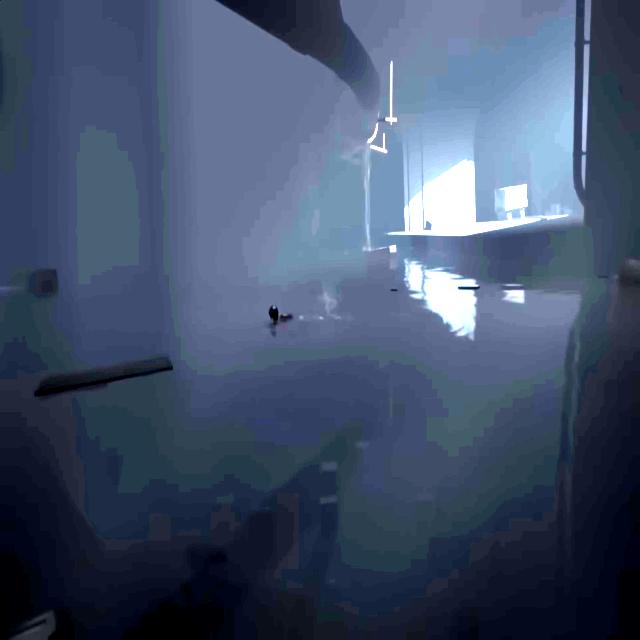boy: (268, 305, 279, 325)
